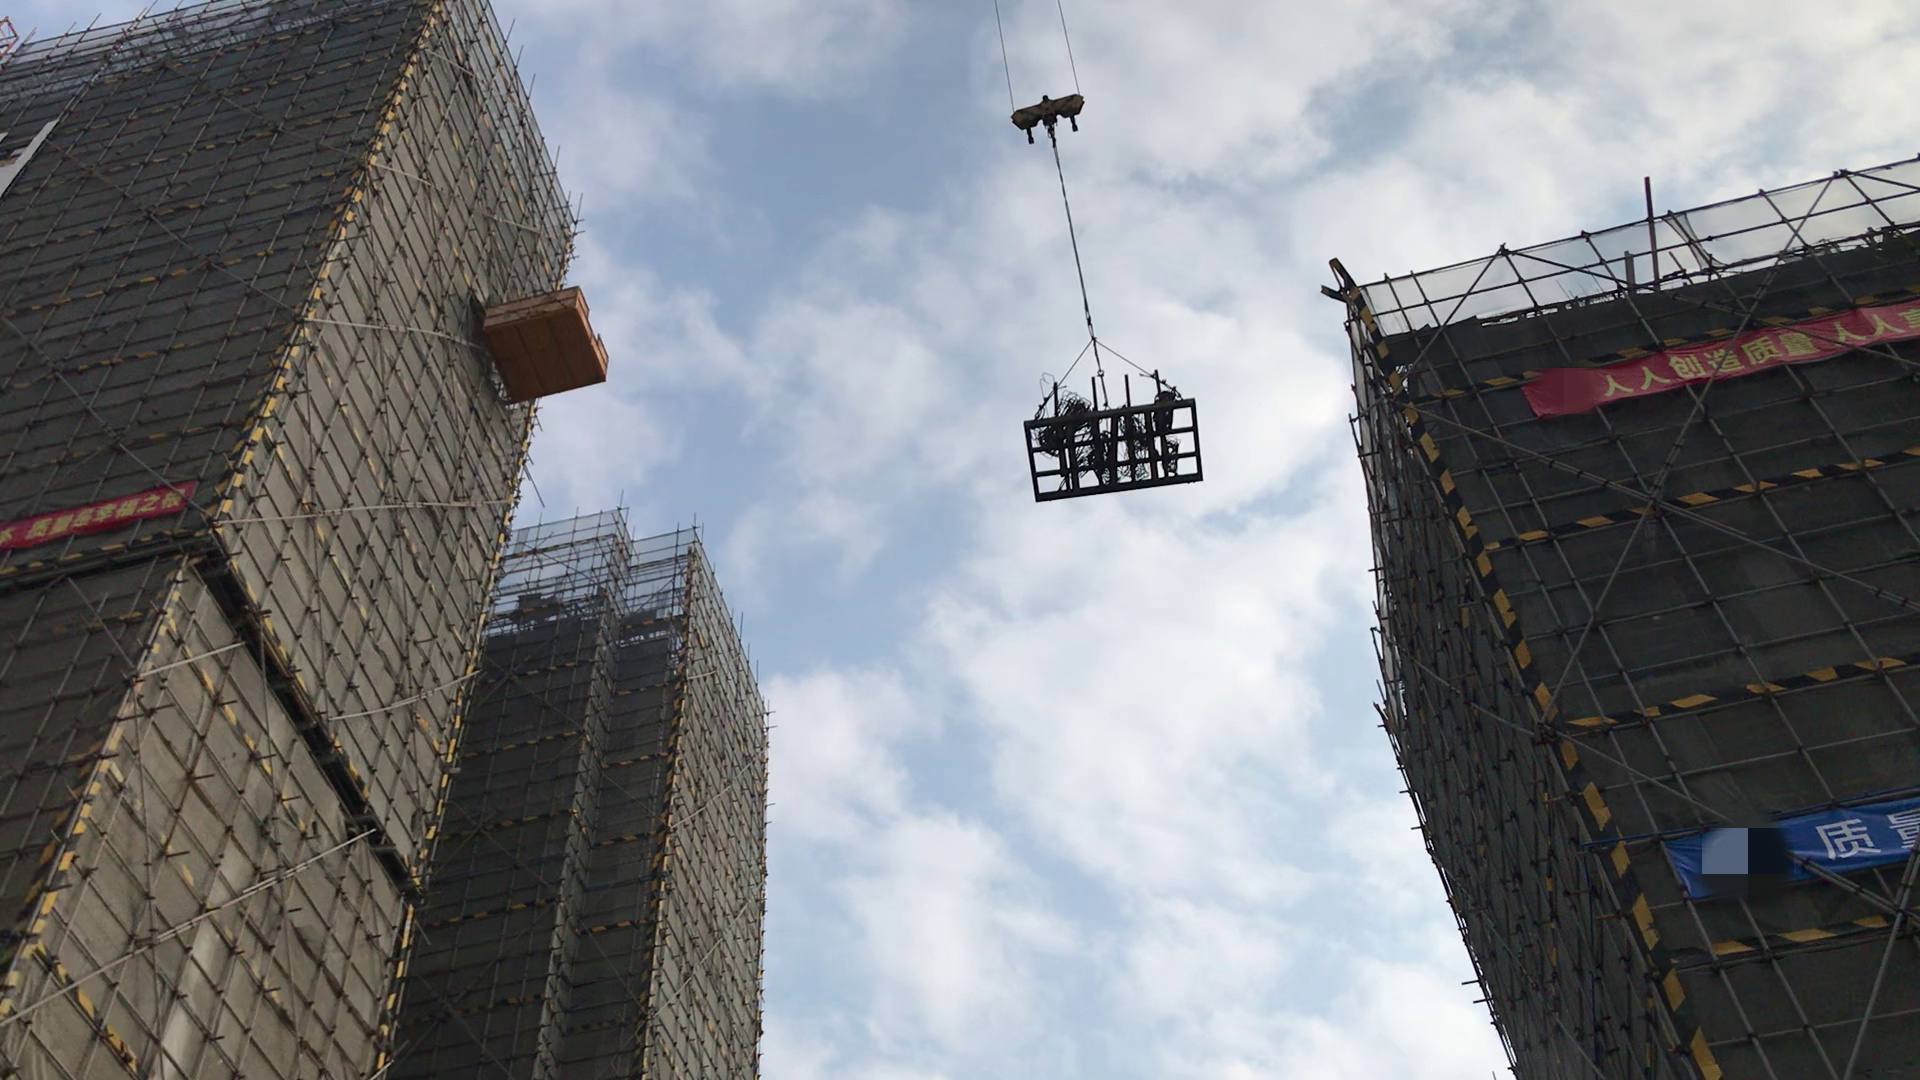hook: (1001, 79, 1096, 144)
slogan: (1536, 307, 1920, 422), (1675, 760, 1920, 901), (7, 477, 202, 553)
